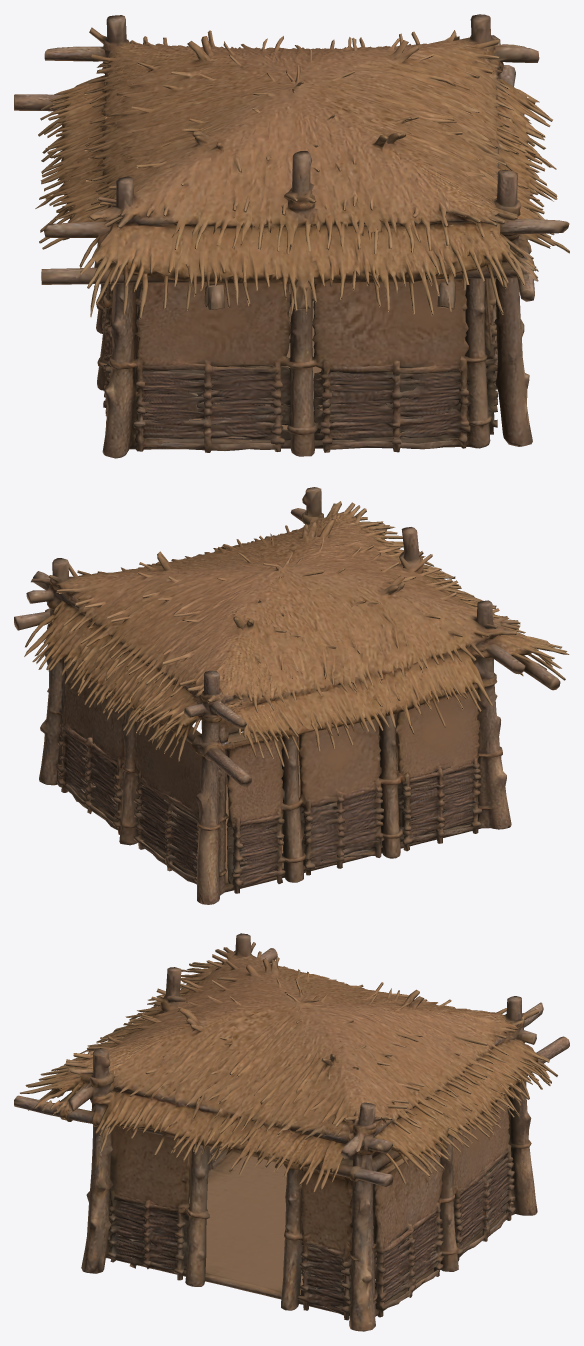
The model's file is house-v1.glb.
3 views of the same model, one above another, from view 1: azimuth 30°, elevation 25°; view 2: azimuth 150°, elevation 25°; view 3: azimuth 270°, elevation 25° (orthographic). The views are drawn at different scales.
Visible parts, largest first — view 1: tripo_node_acc8da83-eda1-4695-b20f-68f093a0515b; view 2: tripo_node_acc8da83-eda1-4695-b20f-68f093a0515b; view 3: tripo_node_acc8da83-eda1-4695-b20f-68f093a0515b.
Part boxes in pixels (bbox=[...]): tripo_node_acc8da83-eda1-4695-b20f-68f093a0515b: bbox=[14, 14, 569, 458]; tripo_node_acc8da83-eda1-4695-b20f-68f093a0515b: bbox=[14, 487, 569, 904]; tripo_node_acc8da83-eda1-4695-b20f-68f093a0515b: bbox=[14, 933, 569, 1331].
Bounding box in the file's own units: 1.16 × 0.5815 × 1.22.
1 material, 1 textured.
